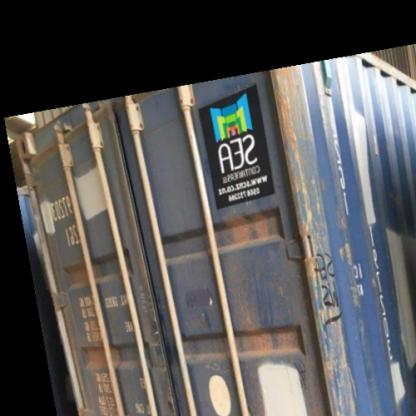Damage: (303, 230, 349, 333), (268, 66, 312, 156), (230, 323, 302, 355), (224, 204, 275, 246), (75, 333, 131, 367), (324, 351, 359, 391), (64, 252, 104, 278)
